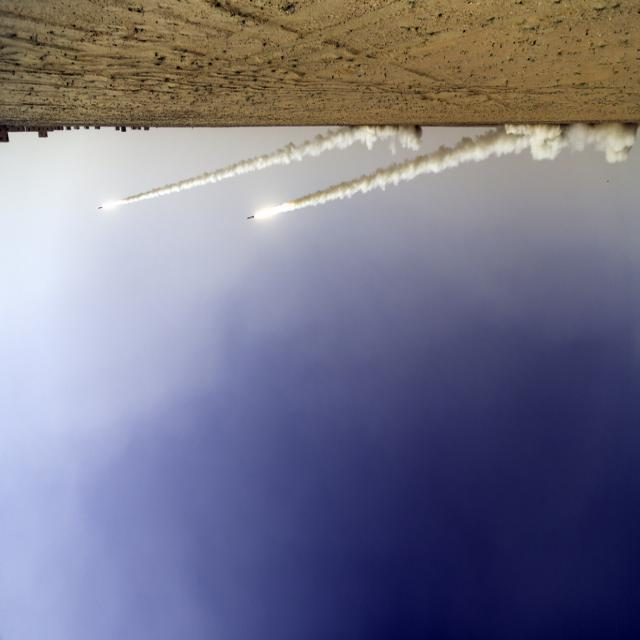missile: (244, 216, 258, 221), (96, 206, 104, 212)
